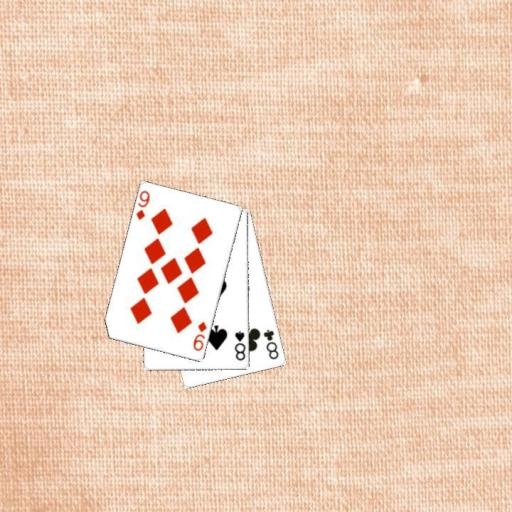8C: (260, 327, 280, 362)
8S: (232, 328, 247, 362)
9D: (190, 319, 208, 353), (133, 188, 151, 222)
